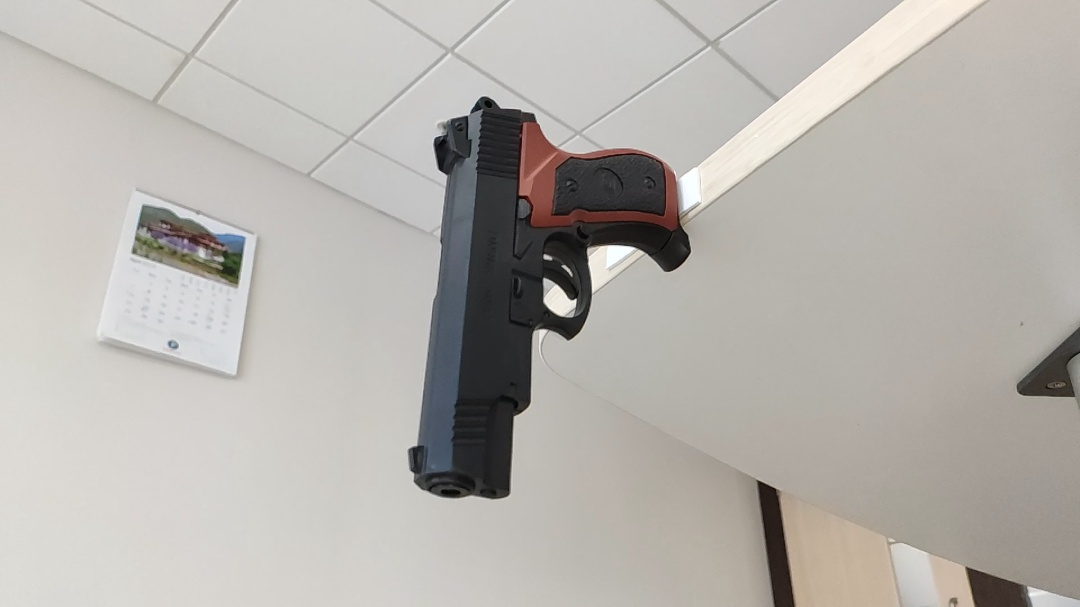gun: (403, 94, 697, 516)
